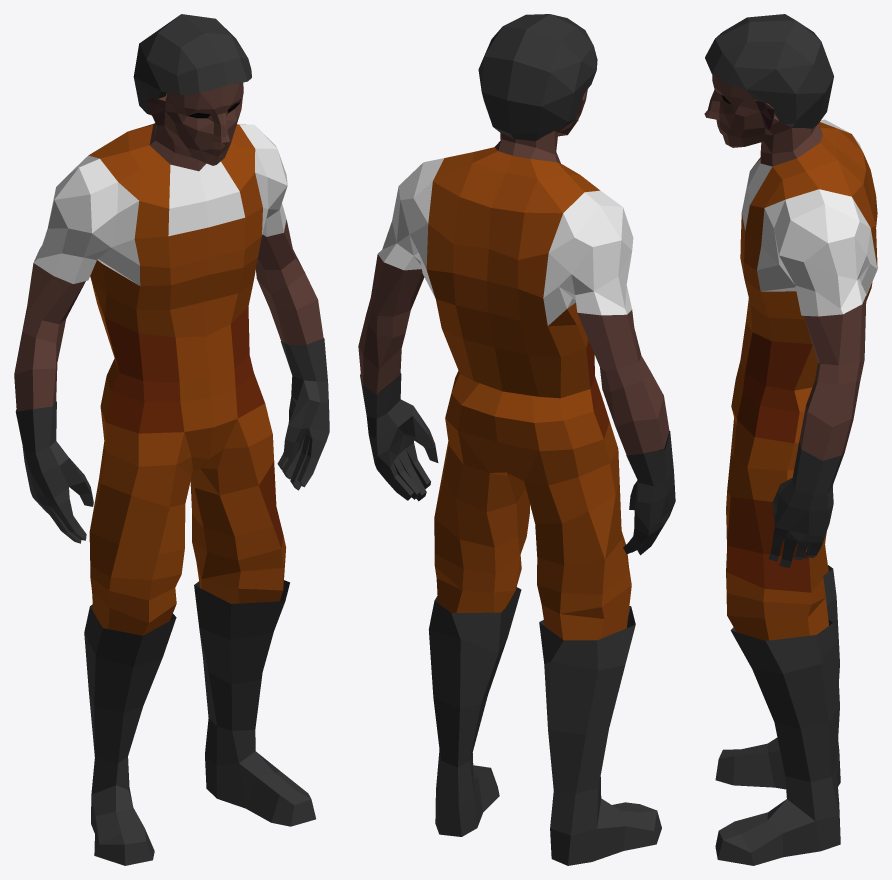
File: Male_10.FBX
3 views of the same model, side by side, from view 1: azimuth 30°, elevation 25°; view 2: azimuth 150°, elevation 25°; view 3: azimuth 270°, elevation 25° (orthographic).
Visible parts, largest first — view 1: Male_10; view 2: Male_10; view 3: Male_10.
Boxes of the visible parts, <box> form: Male_10: <box>14,14,329,865</box>; Male_10: <box>358,14,675,865</box>; Male_10: <box>704,14,877,865</box>.
Size of the model in its own units: 0.712 by 1.79 by 0.3544.
Materials: 1 (1 with a texture image).
